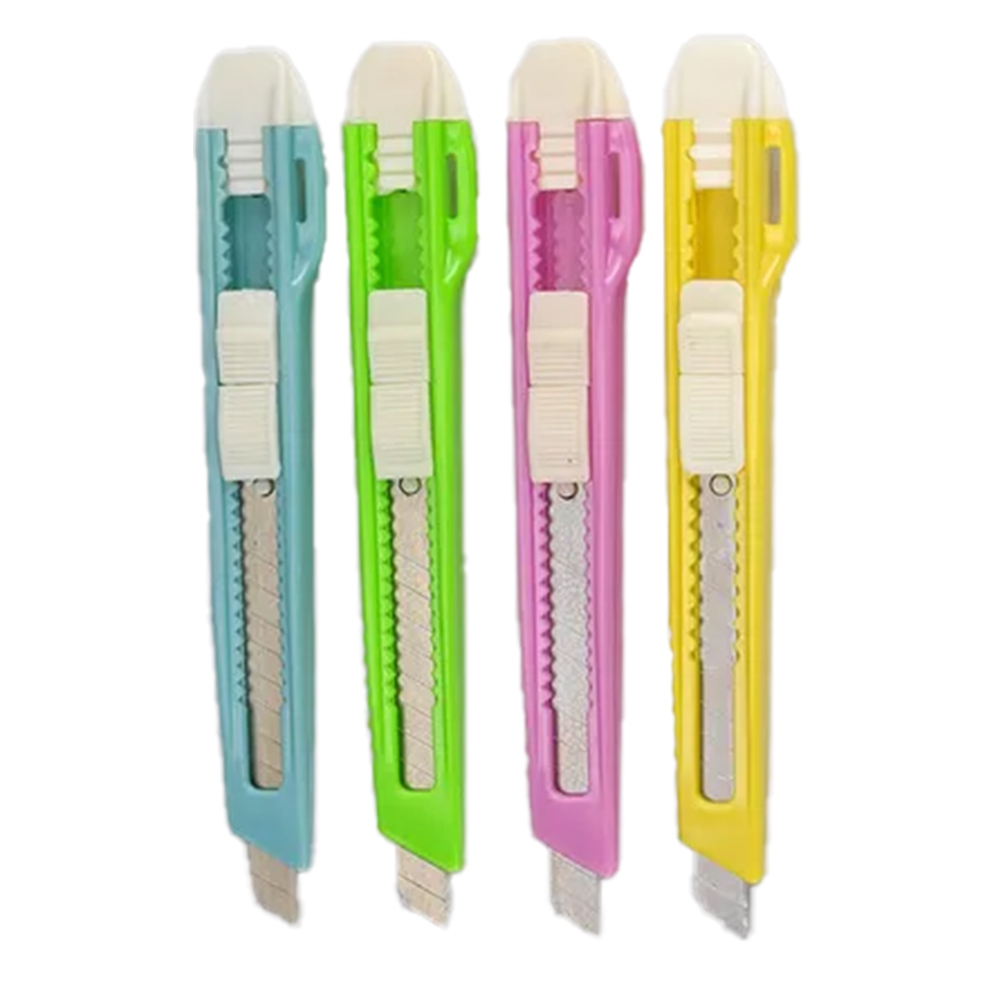cutter: (167, 48, 328, 929), (503, 35, 647, 941), (661, 37, 801, 939), (338, 40, 479, 929)
